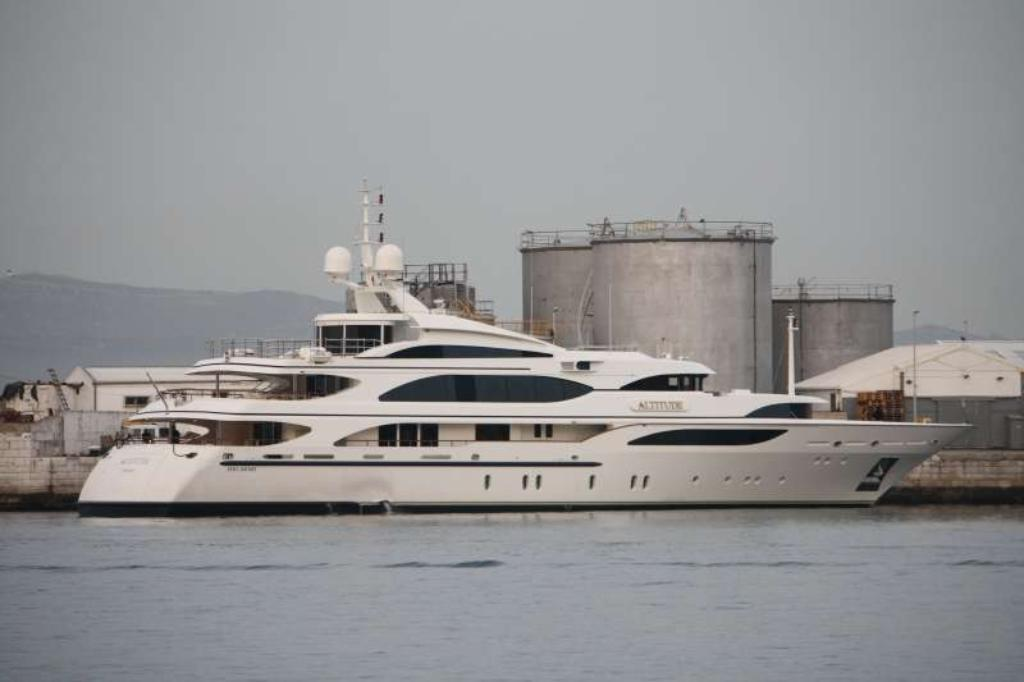PassengerShip: (64, 186, 986, 524)
